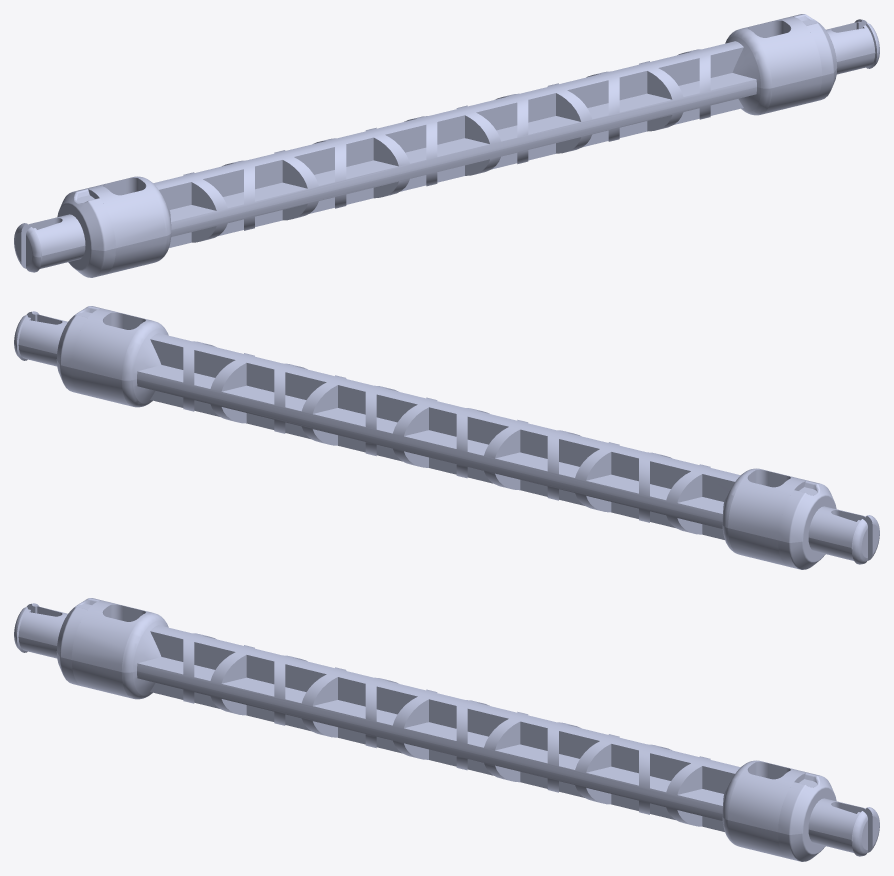
Rendered from 6x Pitch Flexible Standoff (228-2500-1934).glb.
The picture shows the model from 3 angles, top to bottom: view 1: azimuth 30°, elevation 25°; view 2: azimuth 150°, elevation 25°; view 3: azimuth 330°, elevation 25°; orthographic projection.
Visible parts, largest first — view 1: 6x Pitch Flexible Standoff (228-2500-1934); view 2: 6x Pitch Flexible Standoff (228-2500-1934); view 3: 6x Pitch Flexible Standoff (228-2500-1934).
Boxes of the visible parts, box(x1,y1,x2,y2) form: 6x Pitch Flexible Standoff (228-2500-1934): box(14, 14, 879, 277); 6x Pitch Flexible Standoff (228-2500-1934): box(14, 306, 879, 569); 6x Pitch Flexible Standoff (228-2500-1934): box(14, 598, 879, 861).
Bounding box in the file's own units: 3.48 × 0.3146 × 0.315.
